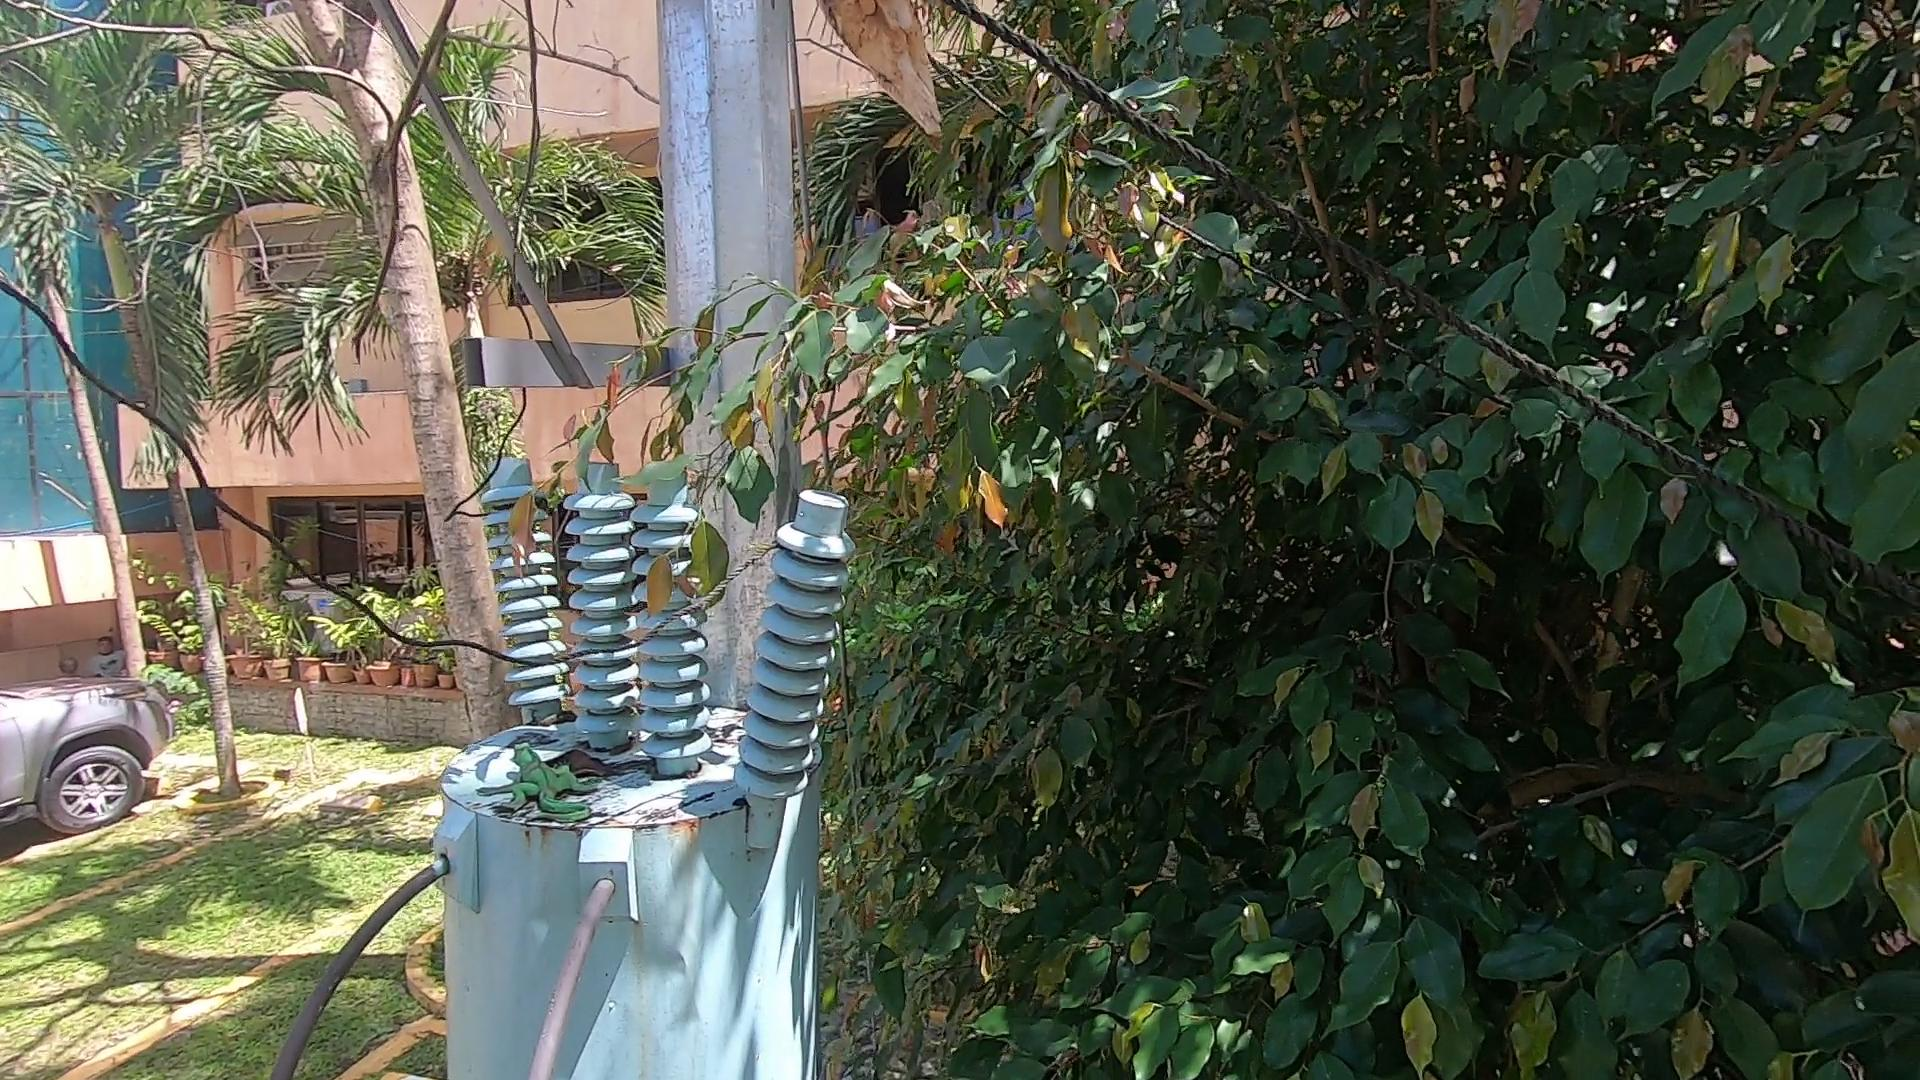branch with leaves: (527, 305, 800, 626)
leaf: (537, 742, 655, 796), (699, 716, 749, 745), (537, 707, 585, 735)
